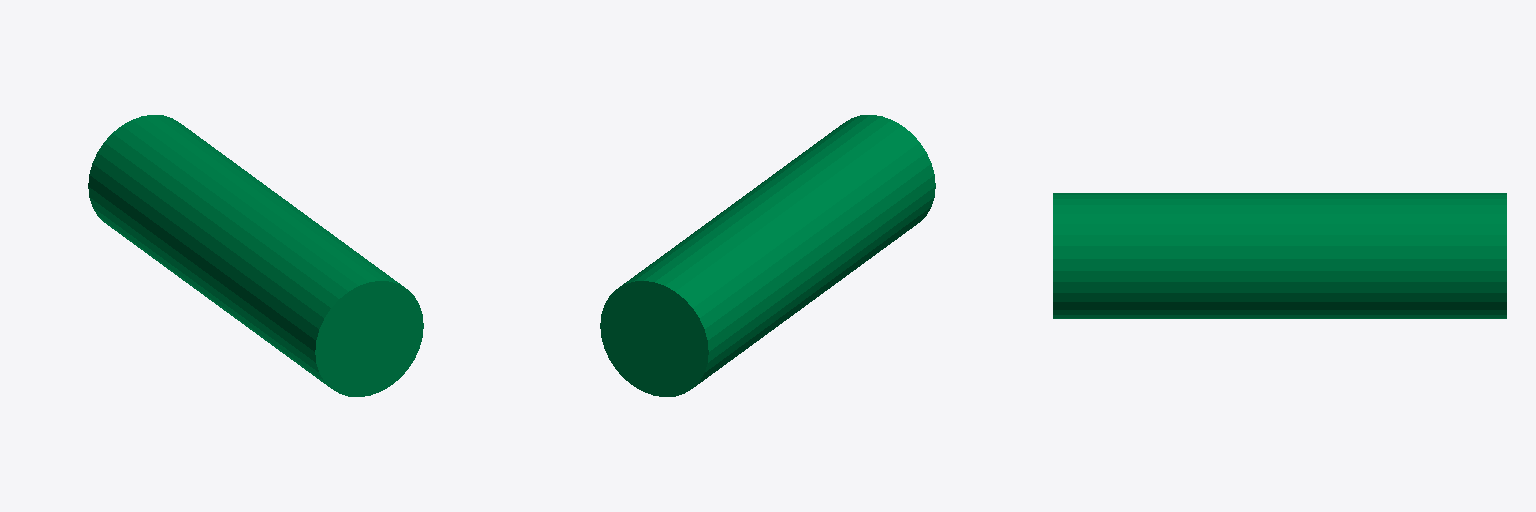
File: VerbindungsstueckS5.obj
3 views of the same model, side by side, from view 1: azimuth 30°, elevation 25°; view 2: azimuth 150°, elevation 25°; view 3: azimuth 270°, elevation 25° (orthographic).
Parts seen in each view (by area): view 1: Verbindungsstück_S.005_Cylinder.029; view 2: Verbindungsstück_S.005_Cylinder.029; view 3: Verbindungsstück_S.005_Cylinder.029.
Part boxes in pixels (x1,y1,x2,y2): Verbindungsstück_S.005_Cylinder.029: (88, 115, 423, 396); Verbindungsstück_S.005_Cylinder.029: (600, 115, 935, 396); Verbindungsstück_S.005_Cylinder.029: (1053, 193, 1506, 318).
Bounding box in the file's own units: 0.2335 × 0.2335 × 0.8463.